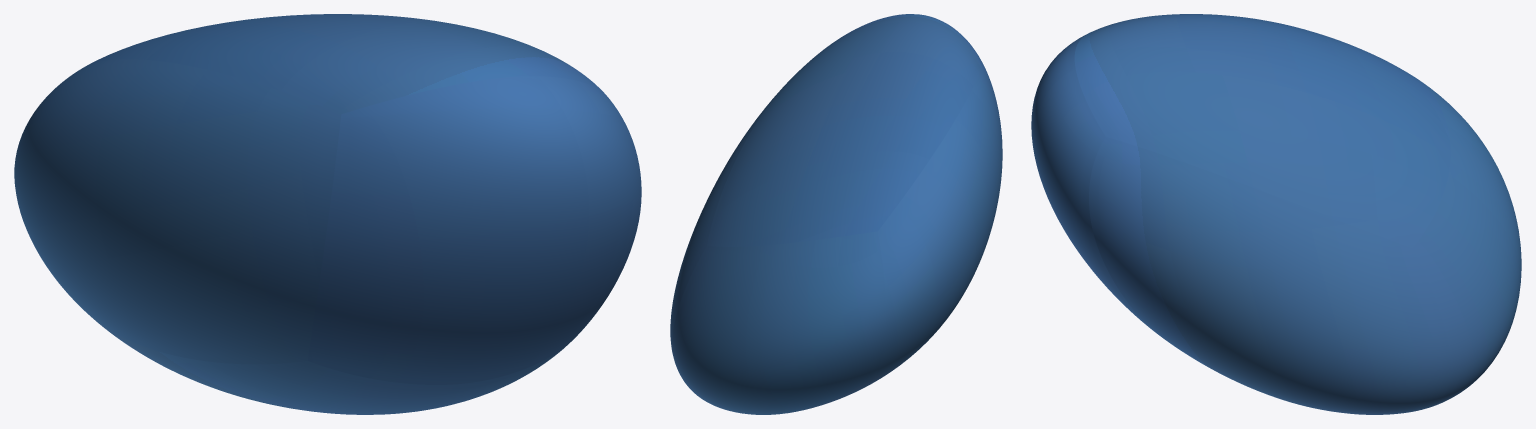
Rendered from rock2.glb.
The picture shows the model from 3 angles, left to right: view 1: azimuth 30°, elevation 25°; view 2: azimuth 150°, elevation 25°; view 3: azimuth 270°, elevation 25°; orthographic projection. The views are drawn at different scales.
Visible parts, largest first — view 1: Cube; view 2: Cube; view 3: Cube.
Part boxes in pixels (<box>): Cube: <box>14,14,641,414</box>; Cube: <box>670,14,1002,414</box>; Cube: <box>1031,14,1521,414</box>.
Bounding box in the file's own units: 1.22 × 1.23 × 1.61.
Materials: 1 (1 with a texture image).
